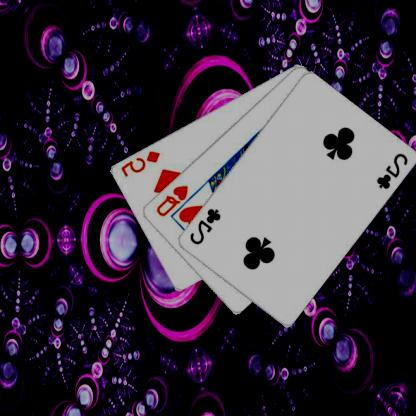2C: (188, 205, 224, 246), (375, 150, 411, 191)
5D: (120, 148, 163, 178)
QH: (155, 182, 191, 218)
